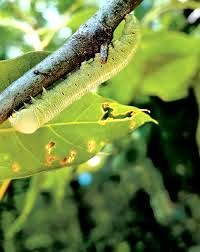Caterpillar: (2, 8, 150, 138)
